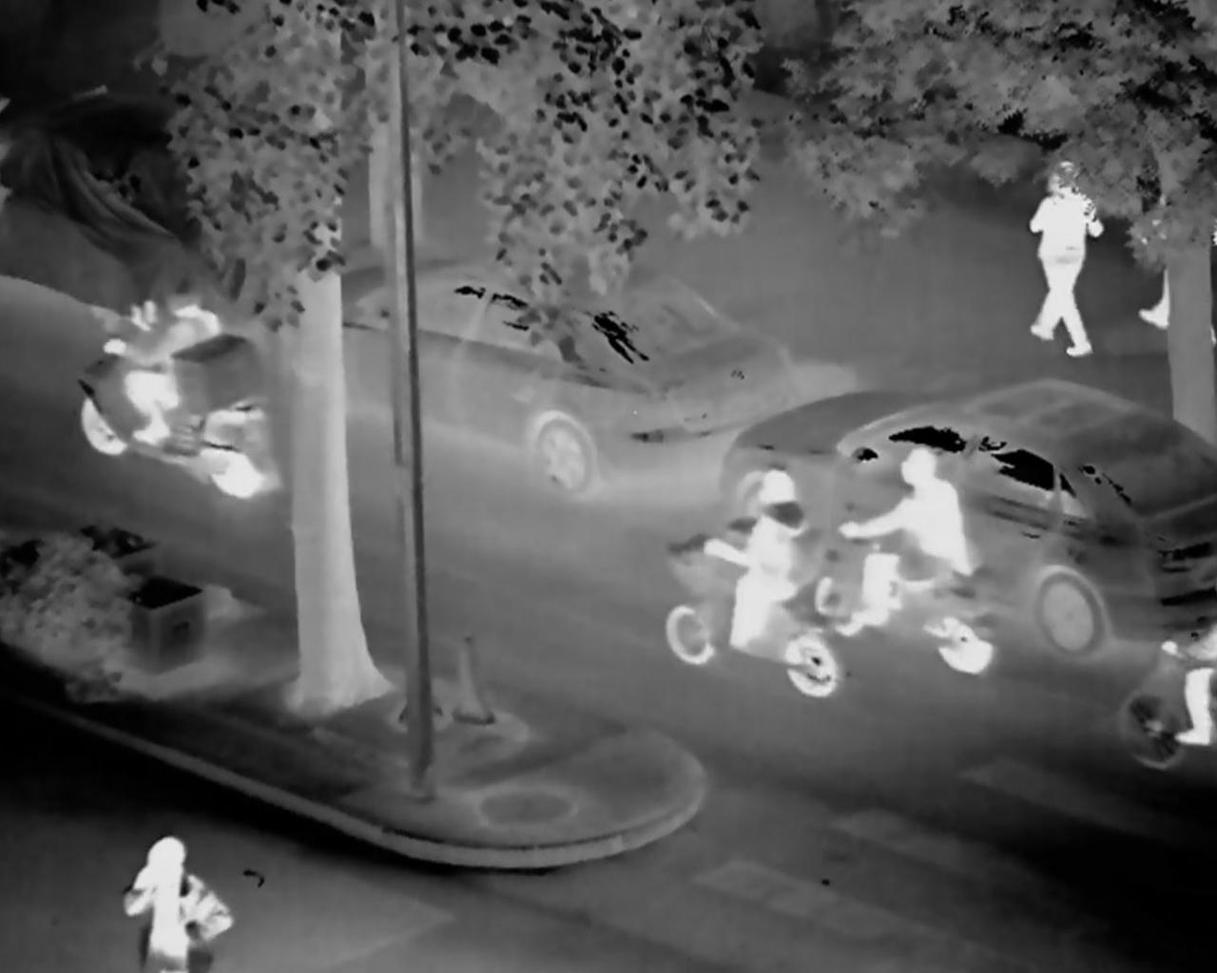person: (840, 444, 994, 644), (699, 463, 820, 699), (110, 273, 234, 484), (1023, 157, 1100, 365), (118, 831, 228, 973), (1163, 605, 1217, 752)
